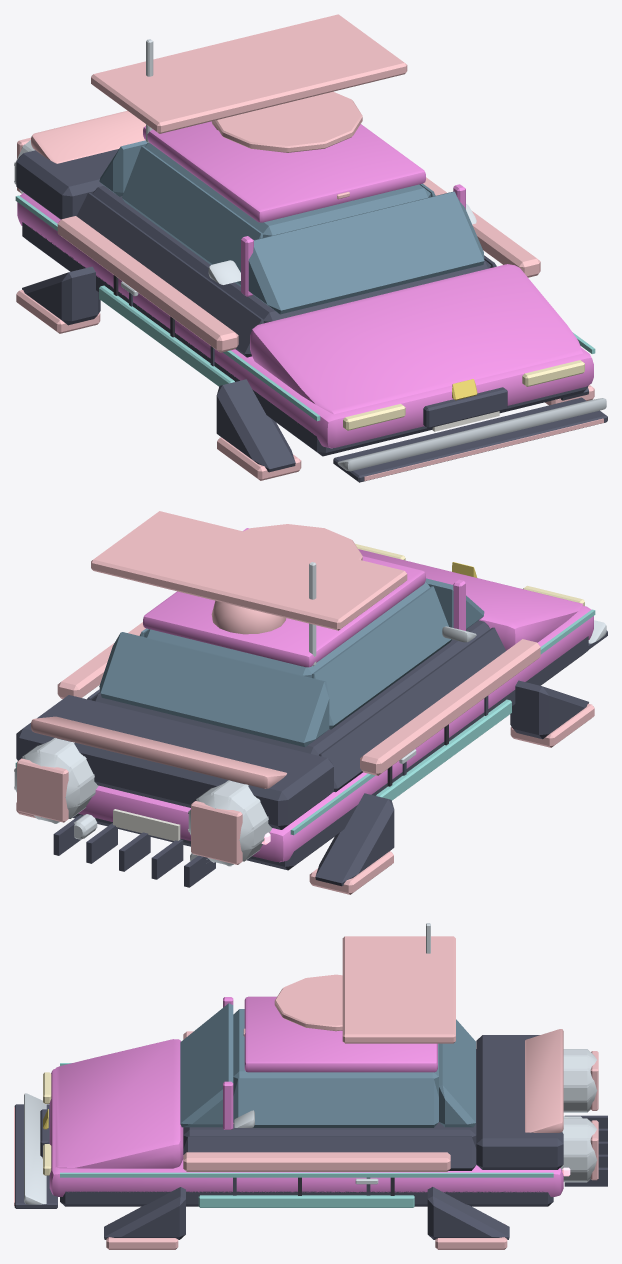
The model's file is futurefoil.fbx.
The picture shows the model from 3 angles, top to bottom: view 1: azimuth 30°, elevation 25°; view 2: azimuth 150°, elevation 25°; view 3: azimuth 270°, elevation 25°; orthographic projection. The views are drawn at different scales.
Parts seen in each view (by area): view 1: Body, Light, Trim, Glass, Accent, Accent3, Accent2, Light2; view 2: Trim, Light, Glass, Body, Accent, Accent3, Accent2, Accent4, Metal, Light2; view 3: Body, Trim, Light, Glass, Accent, Accent2, Accent3, Light2.
Boxes of the visible parts, x1=… form: Body: x1=17, y1=121, x2=593, y2=448; Light: x1=16, y1=14, x2=603, y2=480; Trim: x1=16, y1=149, x2=607, y2=482; Glass: x1=99, y1=140, x2=484, y2=314; Accent: x1=14, y1=39, x2=606, y2=471; Accent3: x1=31, y1=110, x2=145, y2=163; Accent2: x1=15, y1=195, x2=595, y2=421; Light2: x1=343, y1=360, x2=584, y2=430; Trim: x1=16, y1=620, x2=607, y2=887; Light: x1=16, y1=511, x2=594, y2=894; Glass: x1=99, y1=578, x2=484, y2=746; Body: x1=78, y1=528, x2=593, y2=862; Accent: x1=14, y1=562, x2=606, y2=866; Accent3: x1=31, y1=716, x2=286, y2=788; Accent2: x1=15, y1=609, x2=595, y2=835; Accent4: x1=113, y1=809, x2=180, y2=840; Metal: x1=74, y1=749, x2=416, y2=863; Light2: x1=355, y1=543, x2=584, y2=605; Body: x1=49, y1=996, x2=563, y2=1196; Trim: x1=14, y1=1035, x2=607, y2=1239; Light: x1=14, y1=936, x2=598, y2=1249; Glass: x1=180, y1=1003, x2=475, y2=1127; Accent: x1=24, y1=923, x2=597, y2=1204; Accent2: x1=60, y1=1063, x2=553, y2=1207; Accent3: x1=233, y1=1029, x2=563, y2=1132; Light2: x1=43, y1=1072, x2=51, y2=1175.
Size of the model in its own units: 3.1 by 2.44 by 5.78.
